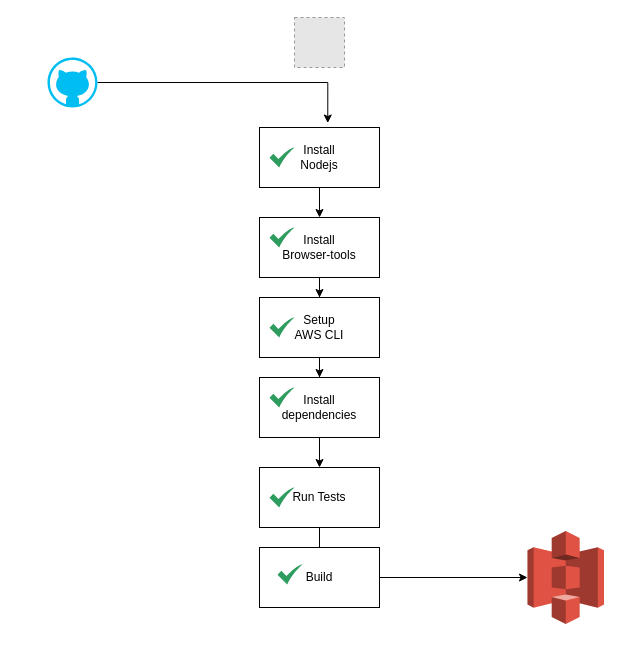
This 621x662 diagram has some shape labels left out. Grey dashed boxes stand in for pictures. Each missing label, with the centre of its shape:
"Push code to master" goes at point 72,82.
"S3 bucket" goes at point 565,577.
